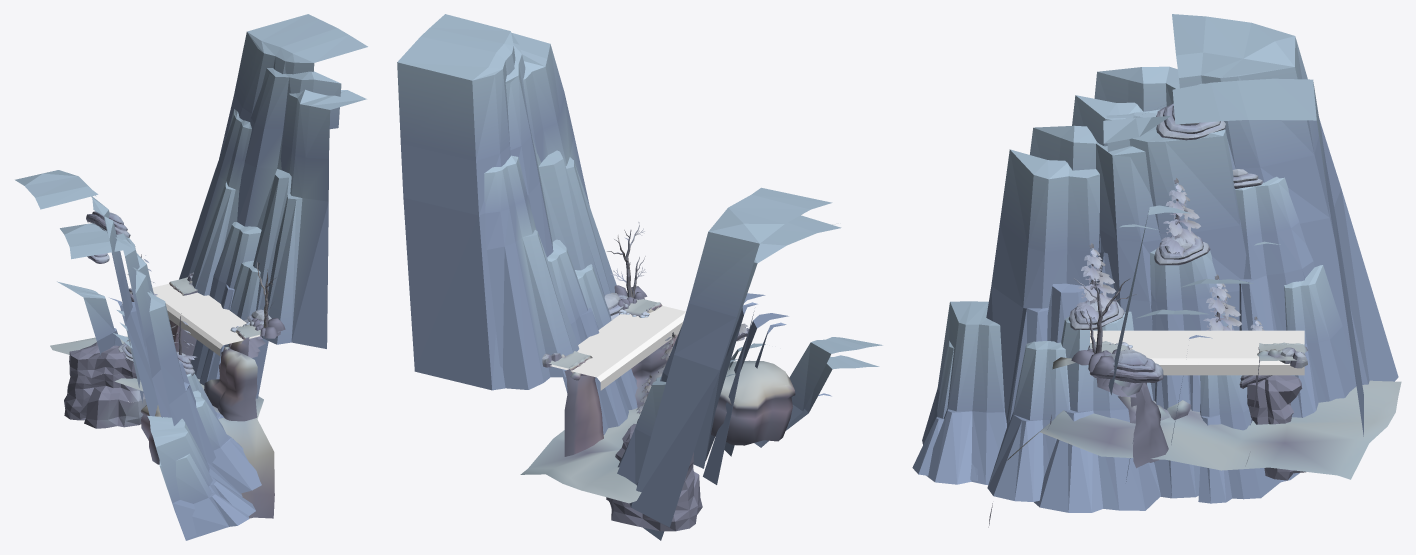
Rendered from Arctic_Narrows_Left_Jump_A.glb.
The picture shows the model from 3 angles, left to right: view 1: azimuth 30°, elevation 25°; view 2: azimuth 150°, elevation 25°; view 3: azimuth 270°, elevation 25°; orthographic projection. The views are drawn at different scales.
Parts seen in each view (by area): view 1: Arctic_Narrows_Left_IceWall_A01 (3), Arctic_Narrows_Right_IceWall_A01_Left (×2), Arctic_Narrows_Left_Jump_A, Arctic_Narrows_Right_IceWall_A01 (3), Arctic_Narrows_Left_IceWall_A01_Left, Arctic_Narrows_Right_IceWall_A01 (2), Arctic_Narrows_Left_IceWall_A01_Mid, inv_fill, Arctic_Narrows_Big_Rock_A01, Arctic_Narrows_Big_Rock_A01_Top, Arctic_Narrows_Left_IceWall_A01_Mid (1), Arctic_Narrows_Right_IceWall_A01_Right (+1 smaller); view 2: Arctic_Narrows_Left_IceWall_A01 (3), Arctic_Narrows_Right_IceWall_A01 (2), Arctic_Narrows_Left_Jump_A, Arctic_Narrows_Left_IceWall_A01_Left, inv_fill, Arctic_Narrows_Right_IceWall_A01 (3), Arctic_Narrows_Right_IceWall_A01_Left (×2), Arctic_Narrows_Left_IceWall_A01_Mid, Arctic_Narrows_Right_IceWall_A01_Right, Arctic_Narrows_Big_Rock_A01, Arctic_Narrows_Left_IceWall_A01_Mid (1); view 3: Arctic_Narrows_Right_IceWall_A01 (3), Arctic_Narrows_Right_IceWall_A01_Left (×2), Arctic_Narrows_Right_IceWall_A01 (2), Arctic_Narrows_Left_Jump_A, Arctic_Narrows_Right_IceWall_A01_Mid (×2), Arctic_Narrows_Right_IceWall_A01_Right (×2), Arctic_Narrows_Left_IceWall_A01 (3), inv_fill, Arctic_Narrows_Big_Rock_A01_Top, Arctic_Narrows_Left_Rock_A01 (2), Arctic_Narrows_Right_Snow_A01 (7), Arctic_Narrows_Big_Rock_A01_Mid (+2 smaller).
Boxes of the visible parts, box(x1,y1,x2,y2) form: Arctic_Narrows_Left_IceWall_A01 (3): box(219, 14, 367, 348); Arctic_Narrows_Right_IceWall_A01_Left (×2): box(147, 373, 261, 540); Arctic_Narrows_Left_Jump_A: box(50, 277, 274, 518); Arctic_Narrows_Right_IceWall_A01 (3): box(60, 223, 215, 465); Arctic_Narrows_Left_IceWall_A01_Left: box(179, 109, 251, 295); Arctic_Narrows_Right_IceWall_A01 (2): box(15, 170, 161, 416); Arctic_Narrows_Left_IceWall_A01_Mid: box(190, 222, 261, 385); inv_fill: box(152, 283, 260, 356); Arctic_Narrows_Big_Rock_A01: box(64, 389, 146, 428); Arctic_Narrows_Big_Rock_A01_Top: box(69, 342, 136, 378); Arctic_Narrows_Left_IceWall_A01_Mid (1): box(224, 260, 268, 398); Arctic_Narrows_Right_IceWall_A01_Right: box(57, 281, 122, 356); Arctic_Narrows_Left_IceWall_A01 (3): box(397, 14, 616, 390); Arctic_Narrows_Right_IceWall_A01 (2): box(629, 187, 832, 527); Arctic_Narrows_Left_Jump_A: box(520, 296, 795, 503); Arctic_Narrows_Left_IceWall_A01_Left: box(484, 155, 579, 389); inv_fill: box(550, 306, 685, 390); Arctic_Narrows_Right_IceWall_A01 (3): box(643, 215, 841, 540); Arctic_Narrows_Right_IceWall_A01_Left (×2): box(729, 337, 882, 447); Arctic_Narrows_Left_IceWall_A01_Mid: box(547, 239, 628, 434); Arctic_Narrows_Right_IceWall_A01_Right: box(617, 377, 665, 484); Arctic_Narrows_Big_Rock_A01: box(606, 471, 702, 531); Arctic_Narrows_Left_IceWall_A01_Mid (1): box(575, 264, 637, 410); Arctic_Narrows_Right_IceWall_A01 (3): box(986, 112, 1299, 482); Arctic_Narrows_Right_IceWall_A01_Left (×2): box(912, 301, 1160, 512); Arctic_Narrows_Right_IceWall_A01 (2): box(1072, 14, 1398, 384); Arctic_Narrows_Left_Jump_A: box(988, 343, 1401, 527); Arctic_Narrows_Right_IceWall_A01_Mid (×2): box(1147, 176, 1314, 498); Arctic_Narrows_Right_IceWall_A01_Right (×2): box(1198, 265, 1356, 503); Arctic_Narrows_Left_IceWall_A01 (3): box(1103, 78, 1363, 436); inv_fill: box(1090, 330, 1304, 375); Arctic_Narrows_Big_Rock_A01_Top: box(1247, 375, 1302, 409); Arctic_Narrows_Left_Rock_A01 (2): box(1071, 348, 1114, 375); Arctic_Narrows_Right_Snow_A01 (7): box(1090, 363, 1163, 383); Arctic_Narrows_Big_Rock_A01_Mid: box(1248, 403, 1293, 424).
Size of what is drawn, in the model's own units: 26.44 by 29.16 by 24.35.
